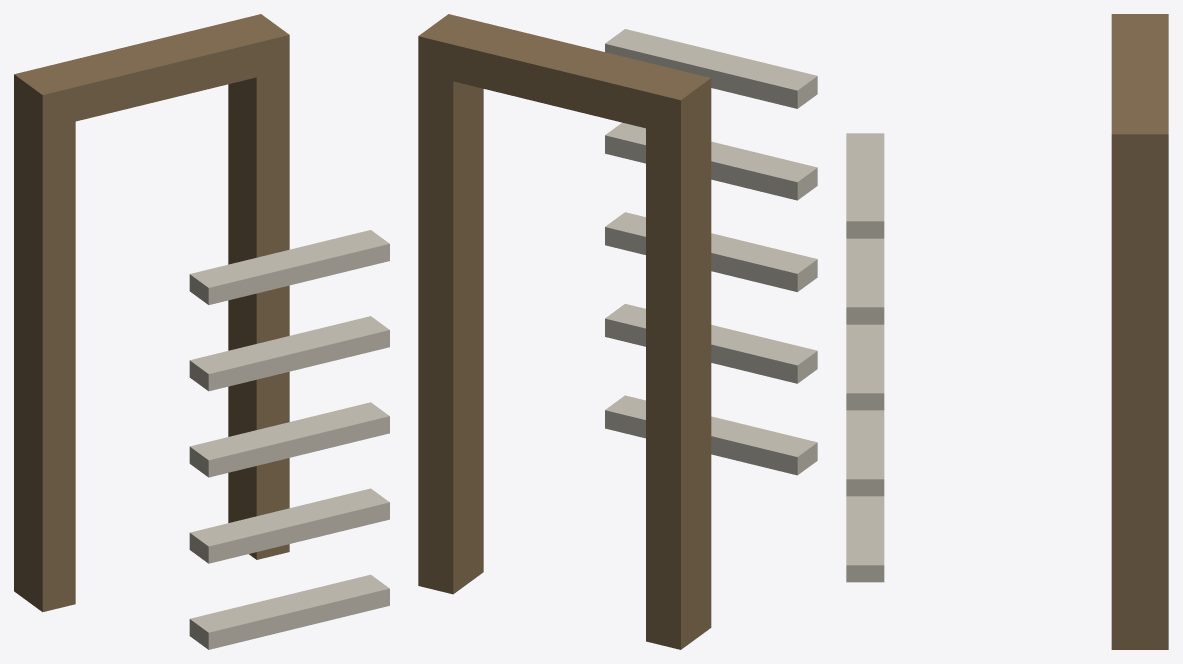
Rendered from telar_roble_01.glb.
3 views of the same model, side by side, from view 1: azimuth 30°, elevation 25°; view 2: azimuth 150°, elevation 25°; view 3: azimuth 270°, elevation 25° (orthographic). The views are drawn at different scales.
Parts seen in each view (by area): view 1: telar_roble; view 2: telar_roble; view 3: telar_roble.
Boxes of the visible parts, x1,y1,x2,y2 form: telar_roble: [14, 14, 389, 649]; telar_roble: [418, 14, 817, 649]; telar_roble: [846, 14, 1168, 649].
Size of the model in its own units: 1 by 2 by 1.13.
